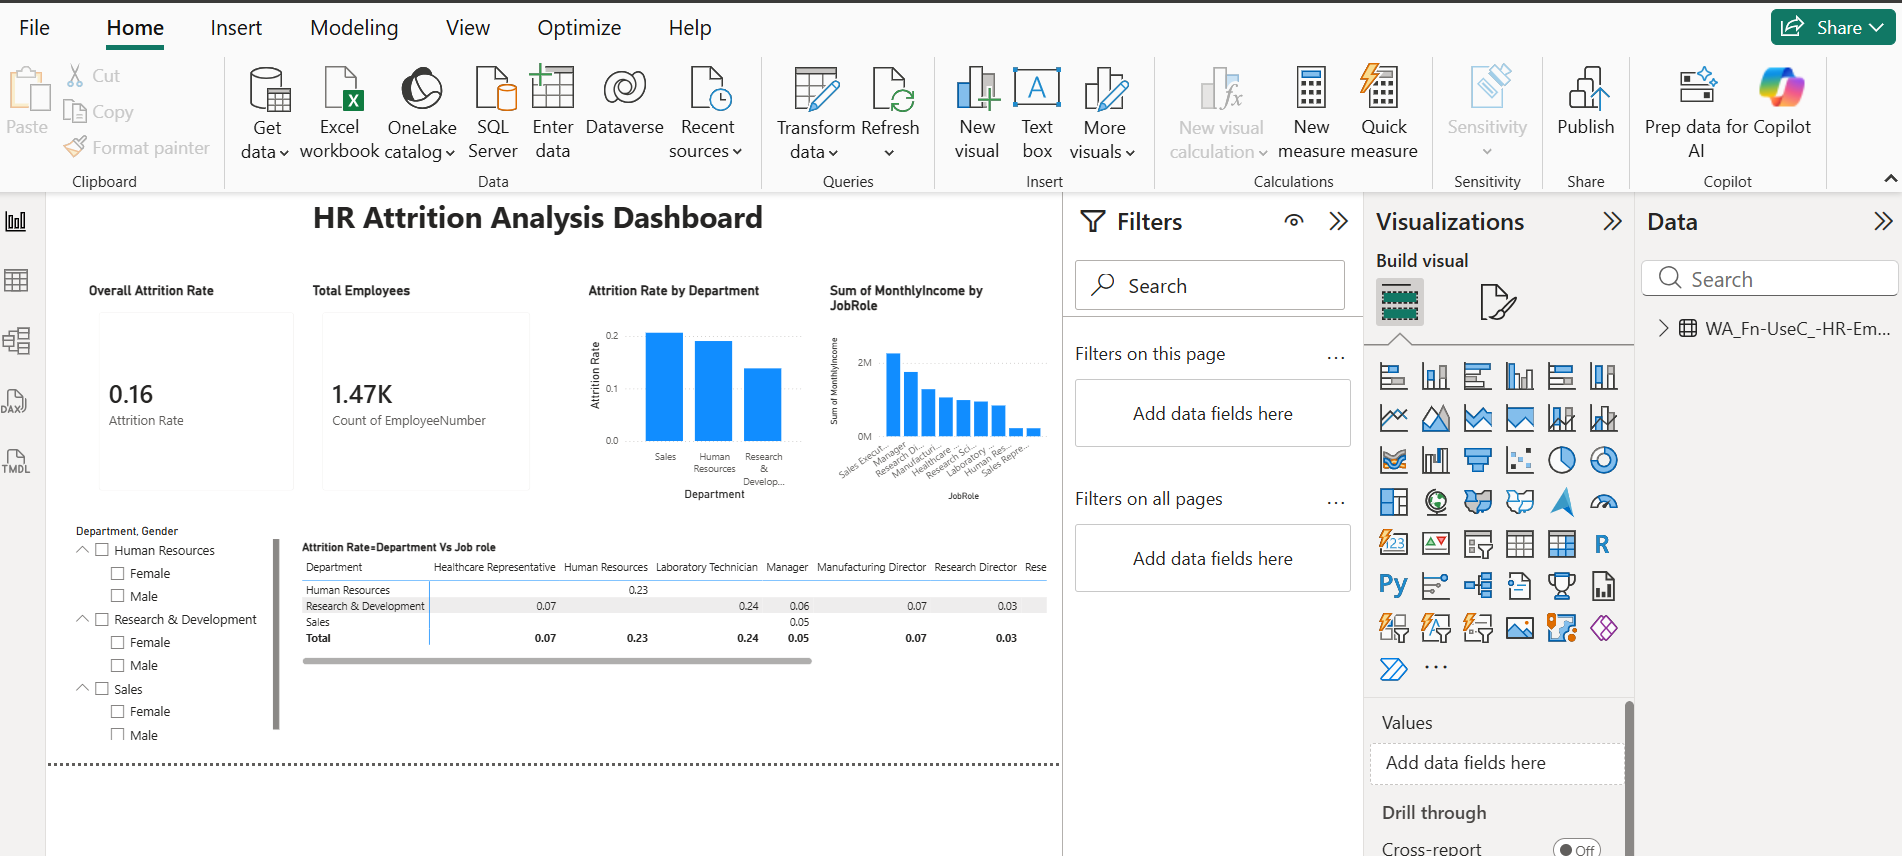

The dashboard page shown, as its layout file describes it:
{"tool":"powerbi","page":{"name":"Page 1","canvas":[1280,720],"ordinal":0},"visuals":[{"type":"cardVisual","title":"Overall Attrition Rate","fields":{"Data":["WA_Fn-UseC_-HR-Employee-Attrition.Attrition Rate"]},"box":[50,114,280,280],"z":0},{"type":"cardVisual","title":"Total Employees","fields":{"Data":["CountNonNull(WA_Fn-UseC_-HR-Employee-Attrition.EmployeeNumber)"]},"box":[330,114,296,280],"z":1000},{"type":"clusteredColumnChart","fields":{"Category":["WA_Fn-UseC_-HR-Employee-Attrition.Department"],"Y":["WA_Fn-UseC_-HR-Employee-Attrition.Attrition Rate"]},"box":[678,114,280,280],"z":2000},{"type":"clusteredColumnChart","fields":{"Category":["WA_Fn-UseC_-HR-Employee-Attrition.JobRole"],"Y":["Sum(WA_Fn-UseC_-HR-Employee-Attrition.MonthlyIncome)"]},"box":[982,114,284,280],"z":3000},{"type":"slicer","fields":{"Values":["WA_Fn-UseC_-HR-Employee-Attrition.Department","WA_Fn-UseC_-HR-Employee-Attrition.Gender"]},"box":[24,414,274,280],"z":4000},{"type":"pivotTable","title":"Attrition Rate=Department Vs Job role","fields":{"Rows":["WA_Fn-UseC_-HR-Employee-Attrition.Department"],"Columns":["WA_Fn-UseC_-HR-Employee-Attrition.JobRole"],"Values":["WA_Fn-UseC_-HR-Employee-Attrition.Attrition Rate"]},"box":[318,438,948,162],"z":5000},{"type":"textbox","box":[330,0,842.5,87.5],"z":6000}]}

Visuals, with their boxes on the page's 1280x720 design canvas (x1, y1, x2, y2). These are canvas units, not pixel positions in the 1902x856 screenshot, which may show the page scaled, cropped or inside an application window:
"Overall Attrition Rate" cardVisual: 50,114,330,394
"Total Employees" cardVisual: 330,114,626,394
clusteredColumnChart - WA_Fn-UseC_-HR-Employee-Attrition.Department x WA_Fn-UseC_-HR-Employee-Attrition.Attrition Rate: 678,114,958,394
clusteredColumnChart - WA_Fn-UseC_-HR-Employee-Attrition.JobRole x Sum(WA_Fn-UseC_-HR-Employee-Attrition.MonthlyIncome): 982,114,1266,394
slicer - WA_Fn-UseC_-HR-Employee-Attrition.Department x WA_Fn-UseC_-HR-Employee-Attrition.Gender: 24,414,298,694
"Attrition Rate=Department Vs Job role" pivotTable: 318,438,1266,600
textbox: 330,0,1172,88
